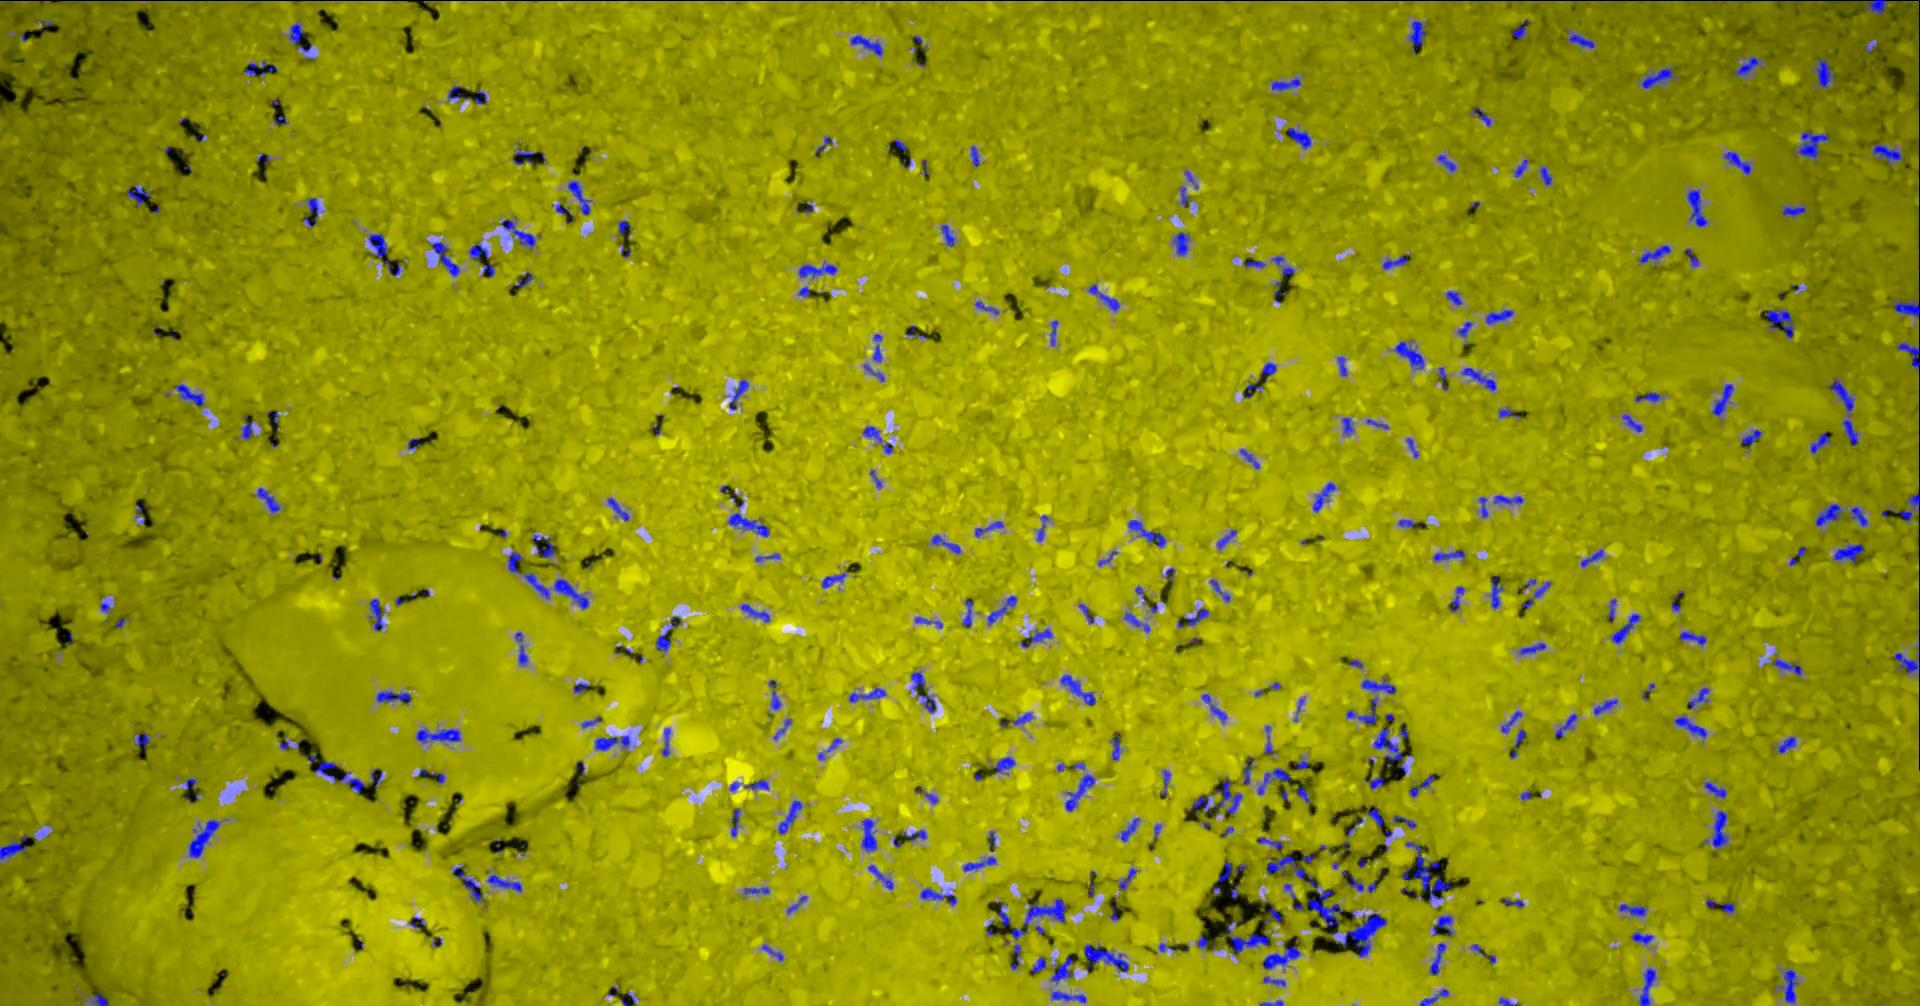ant: (1266, 855, 1342, 926), (1401, 841, 1450, 901), (1010, 897, 1067, 939), (1338, 912, 1385, 956), (1829, 379, 1858, 445), (1191, 777, 1241, 814), (314, 760, 364, 793), (1371, 727, 1404, 774), (1823, 0, 1919, 15), (1893, 630, 1919, 678), (1083, 944, 1128, 970), (188, 819, 218, 857), (1064, 774, 1095, 810), (552, 578, 588, 608), (452, 865, 483, 901), (910, 671, 936, 713), (1060, 674, 1095, 705), (499, 218, 535, 248), (1128, 520, 1164, 547), (728, 512, 768, 536), (430, 241, 458, 276), (1797, 130, 1829, 159), (1262, 945, 1300, 969), (1256, 767, 1290, 794), (1393, 340, 1423, 370), (1703, 810, 1727, 847), (1345, 697, 1377, 725), (1764, 309, 1793, 338), (987, 594, 1016, 624), (1611, 614, 1639, 643), (1088, 285, 1119, 311), (568, 180, 590, 213), (1462, 367, 1495, 390), (778, 800, 801, 833), (1229, 932, 1269, 951), (1686, 189, 1707, 226), (1710, 384, 1733, 415), (1674, 715, 1705, 738), (850, 34, 883, 56), (522, 572, 549, 598), (0, 833, 28, 859), (1201, 694, 1225, 723), (1896, 340, 1919, 370), (174, 384, 203, 406), (1312, 481, 1335, 511), (1832, 542, 1863, 564), (919, 887, 956, 904), (1641, 67, 1672, 88), (1176, 607, 1208, 627), (867, 864, 893, 889), (1723, 151, 1751, 174), (1638, 967, 1655, 1005), (415, 728, 460, 742), (728, 379, 748, 409), (1408, 20, 1426, 55), (1020, 627, 1051, 647), (290, 23, 311, 51), (1815, 504, 1843, 526), (1637, 245, 1670, 263), (1780, 969, 1797, 1005), (1872, 144, 1902, 163), (1408, 775, 1435, 796), (1050, 956, 1072, 983), (1361, 677, 1396, 694), (848, 687, 885, 702), (1815, 58, 1834, 88), (257, 486, 279, 511), (531, 533, 554, 558), (488, 874, 521, 890), (1732, 55, 1759, 75), (931, 533, 959, 553), (1429, 942, 1445, 974), (243, 60, 277, 75), (126, 183, 149, 206), (1286, 127, 1310, 149), (1271, 255, 1293, 279), (1554, 713, 1576, 737), (740, 603, 770, 621), (367, 232, 387, 258), (1123, 614, 1149, 633), (861, 818, 876, 851), (963, 856, 996, 871), (1810, 431, 1831, 453), (607, 497, 629, 520), (1500, 710, 1523, 732), (1470, 942, 1495, 963), (797, 264, 836, 277), (1893, 298, 1919, 318), (370, 598, 385, 630), (974, 520, 1003, 536), (1418, 988, 1448, 1005), (594, 735, 629, 749), (1509, 729, 1525, 757), (822, 569, 847, 587), (376, 690, 411, 702), (302, 197, 317, 226), (1771, 659, 1801, 674), (1209, 579, 1229, 601), (1432, 915, 1453, 936), (514, 631, 527, 666), (1117, 868, 1137, 890), (1050, 989, 1084, 1002), (1120, 817, 1138, 841), (1382, 254, 1410, 269), (1349, 876, 1377, 892), (1490, 575, 1502, 608), (1688, 687, 1708, 708), (1580, 549, 1603, 567), (1906, 488, 1919, 520), (1484, 309, 1512, 323), (417, 768, 444, 782), (1242, 379, 1262, 398), (1217, 528, 1236, 549), (1449, 586, 1464, 611), (773, 718, 791, 739), (993, 756, 1015, 774), (1172, 232, 1189, 255), (1567, 33, 1594, 47), (1271, 77, 1300, 90), (1705, 899, 1735, 912), (1592, 699, 1617, 714), (1239, 448, 1258, 467), (1263, 904, 1283, 923), (863, 363, 884, 381), (1849, 506, 1867, 526), (786, 895, 806, 913), (1740, 429, 1761, 446), (507, 551, 523, 573), (1704, 781, 1726, 798), (761, 944, 782, 960), (655, 629, 670, 652), (1472, 105, 1490, 124), (1436, 154, 1455, 171), (469, 241, 488, 259), (1679, 631, 1705, 644), (1519, 641, 1545, 654), (1777, 735, 1796, 753), (1618, 903, 1644, 916), (974, 300, 998, 314), (1511, 19, 1528, 39), (815, 136, 832, 156), (1622, 414, 1642, 431), (1432, 550, 1465, 560), (768, 680, 780, 709), (513, 149, 535, 164), (940, 224, 954, 246), (961, 600, 973, 627), (914, 616, 942, 627), (1368, 807, 1384, 826), (1036, 514, 1048, 541), (916, 789, 937, 803), (1263, 725, 1274, 754), (1533, 580, 1550, 597), (1782, 205, 1804, 217), (862, 426, 881, 441), (1789, 546, 1804, 565), (1078, 603, 1093, 622), (1392, 815, 1415, 828), (1257, 837, 1283, 848), (997, 903, 1010, 926), (447, 85, 467, 99), (1243, 756, 1253, 784), (1218, 861, 1232, 882), (1512, 159, 1528, 177), (1683, 248, 1698, 265), (514, 272, 532, 287), (241, 413, 251, 439), (1110, 733, 1120, 760), (1159, 770, 1170, 796), (903, 829, 926, 841), (1493, 495, 1523, 504), (662, 727, 670, 756), (1010, 944, 1020, 969), (383, 259, 399, 276), (1445, 290, 1462, 305), (1295, 786, 1310, 803), (1030, 956, 1046, 972), (872, 333, 881, 361), (730, 808, 739, 836), (90, 991, 108, 1005), (744, 779, 768, 789), (1364, 775, 1383, 788), (1196, 935, 1215, 948), (1634, 392, 1661, 401), (1012, 713, 1032, 724), (1630, 932, 1653, 942), (1261, 362, 1275, 379), (1178, 185, 1189, 207), (1539, 166, 1550, 185), (135, 504, 146, 523), (370, 768, 381, 788), (1457, 321, 1470, 337), (135, 732, 149, 747), (618, 220, 630, 238), (1341, 417, 1352, 434), (408, 916, 425, 927), (1262, 976, 1285, 984), (472, 89, 486, 103), (1049, 320, 1057, 345), (970, 145, 979, 166), (1478, 495, 1487, 517), (1608, 598, 1617, 620), (555, 203, 571, 215), (1498, 408, 1519, 417), (481, 263, 494, 277), (1337, 356, 1346, 375), (743, 887, 770, 893), (1503, 898, 1523, 907), (1397, 520, 1418, 527), (573, 683, 589, 692), (408, 437, 420, 448), (1898, 511, 1912, 521), (1244, 260, 1263, 267)
